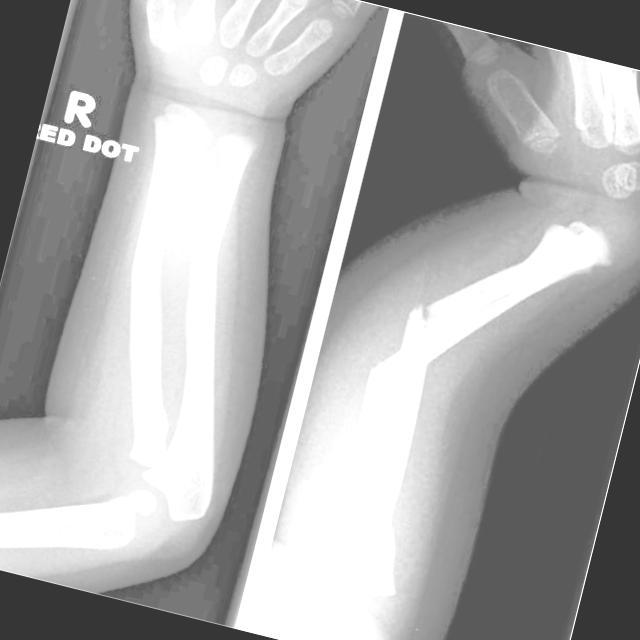GreenStick Fracture: (401, 300, 441, 331)
